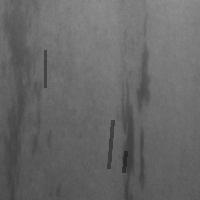inclusion: (1, 3, 44, 197), (118, 12, 151, 199), (26, 107, 56, 162), (106, 118, 114, 170), (43, 48, 47, 89), (121, 149, 127, 174)
